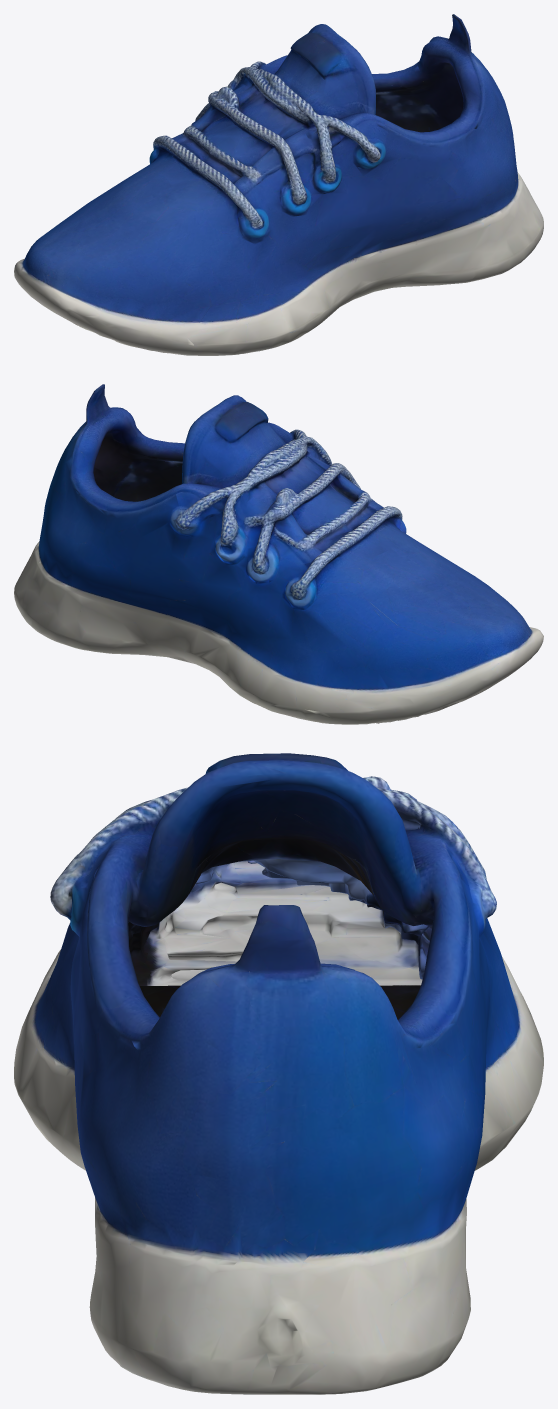
Rendered from wool-runner.glb.
The picture shows the model from 3 angles, top to bottom: view 1: azimuth 30°, elevation 25°; view 2: azimuth 150°, elevation 25°; view 3: azimuth 270°, elevation 25°; orthographic projection. The views are drawn at different scales.
Bounding box in the file's own units: 2 × 0.9479 × 0.9387.
1 material, 1 textured.
